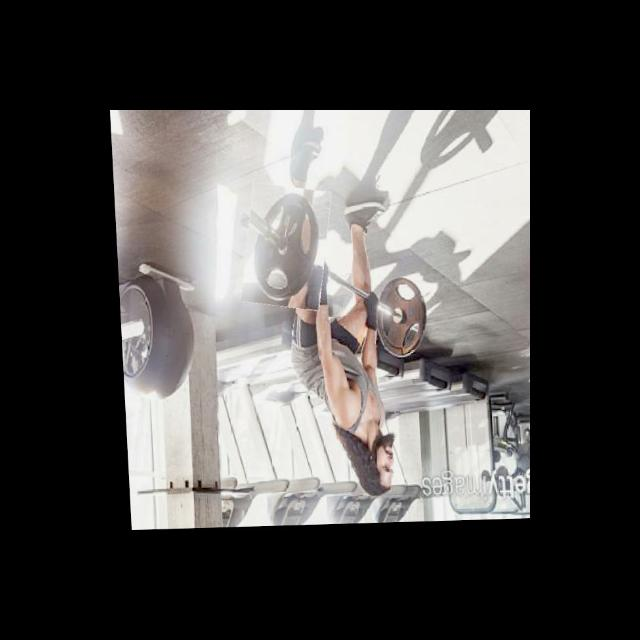barbell: (239, 185, 331, 311)
